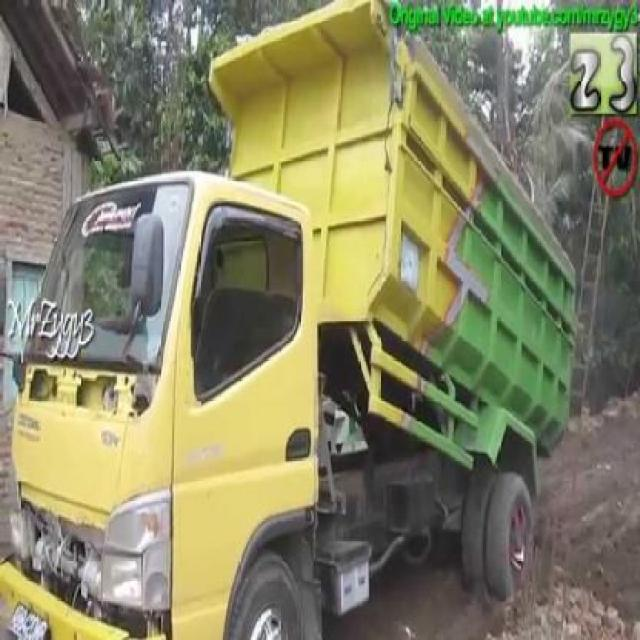truck: (1, 1, 581, 639)
